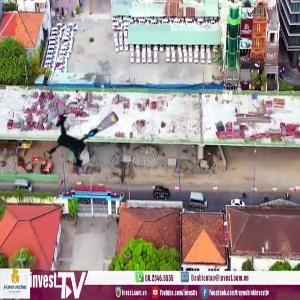drone: (37, 91, 121, 175)
